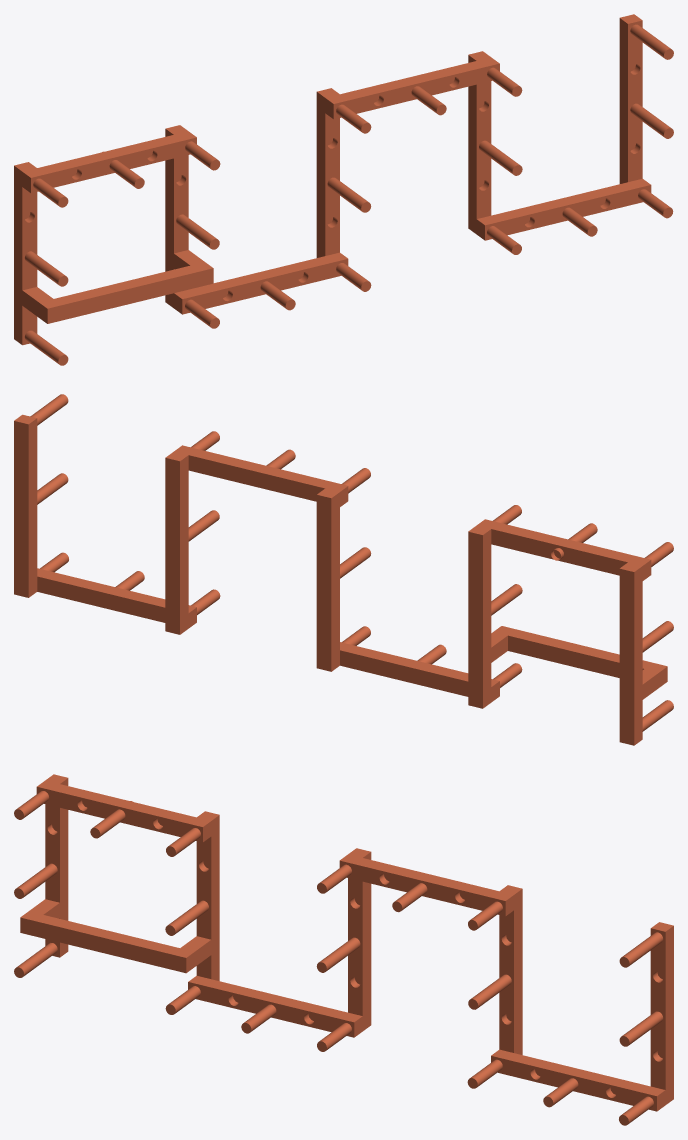
The model's file is Hanger.fbx.
3 renders of one model, top to bottom at view 1: azimuth 30°, elevation 25°; view 2: azimuth 150°, elevation 25°; view 3: azimuth 330°, elevation 25°, orthographic.
Visible parts, largest first — view 1: Hanger; view 2: Hanger; view 3: Hanger.
Boxes of the visible parts, left/top/right/bottom form: Hanger: left=14, top=14, right=673, bottom=365; Hanger: left=14, top=394, right=673, bottom=745; Hanger: left=14, top=774, right=673, bottom=1125.
Size of the model in its own units: 169 by 45.21 by 19.84.
